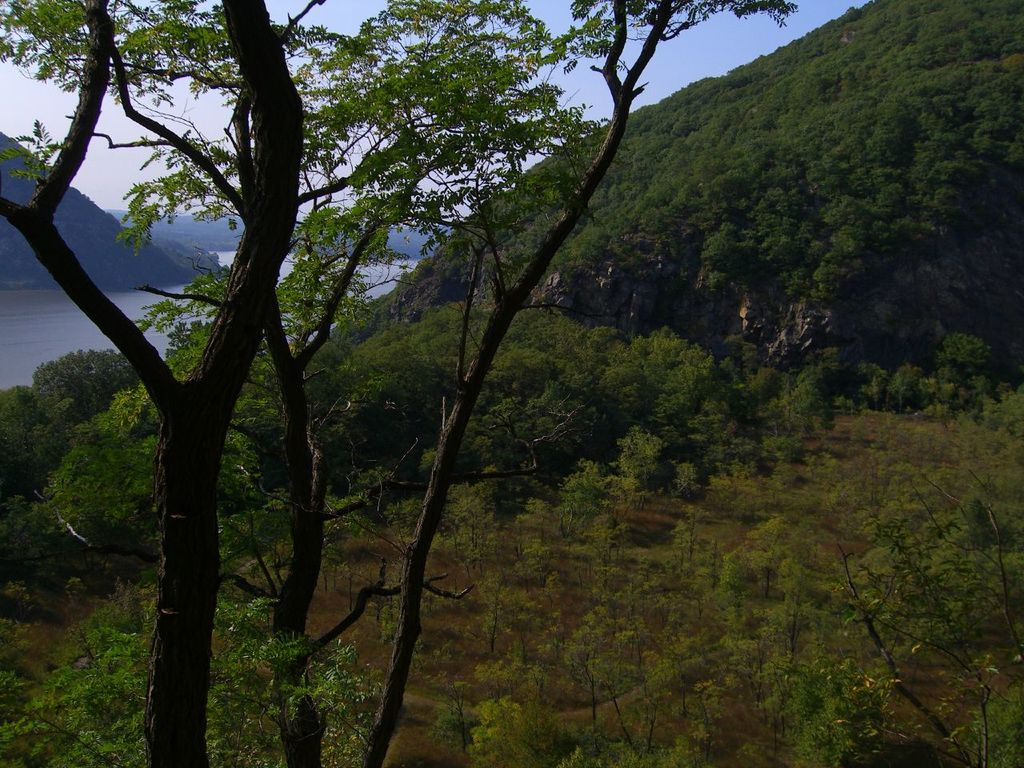Tree: (0, 301, 1023, 767)
